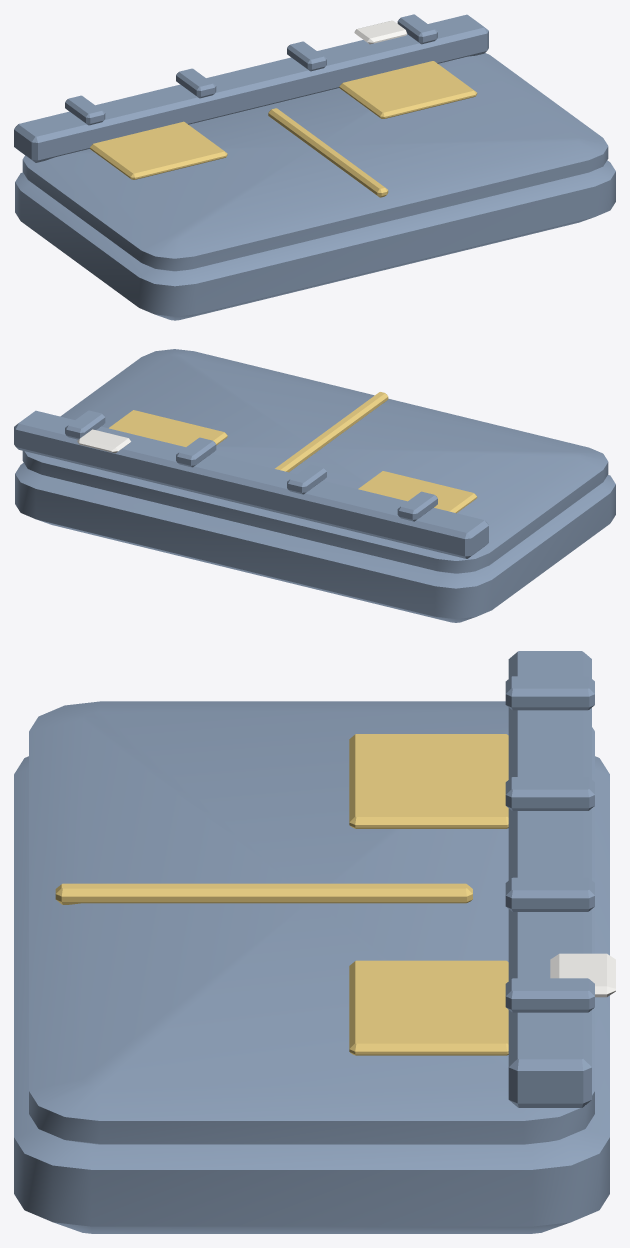
Rendered from clothing-rail-and-wardrobe-shorts-folded-db8c3b29__35440.glb.
3 renders of one model, top to bottom at view 1: azimuth 30°, elevation 25°; view 2: azimuth 150°, elevation 25°; view 3: azimuth 270°, elevation 25°, orthographic. The views are drawn at different scales.
Parts seen in each view (by area): view 1: shorts-folded; view 2: shorts-folded; view 3: shorts-folded.
Part boxes in pixels (<box>): shorts-folded: <box>14,14,615,320</box>; shorts-folded: <box>14,349,615,622</box>; shorts-folded: <box>14,651,615,1233</box>.
Size of the model in its own units: 0.34 by 0.0782 by 0.202.
